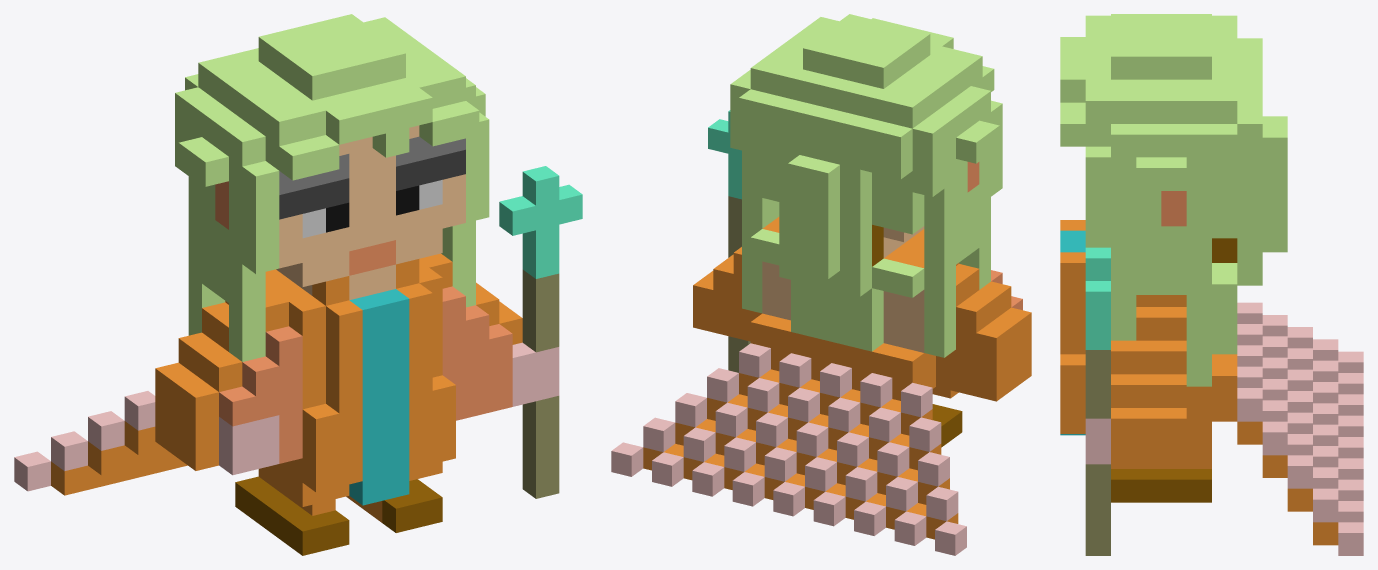
File: archbishop.fbx
3 renders of one model, left to right at view 1: azimuth 30°, elevation 25°; view 2: azimuth 150°, elevation 25°; view 3: azimuth 270°, elevation 25°, orthographic. The views are drawn at different scales.
Parts seen in each view (by area): view 1: 对象; view 2: 对象; view 3: 对象.
Part boxes in pixels (bbox=[...]): 对象: bbox=[14, 14, 582, 555]; 对象: bbox=[611, 14, 1031, 555]; 对象: bbox=[1060, 14, 1363, 555].
Bounding box in the file's own units: 18 × 19 × 12.
1 material, 1 textured.
